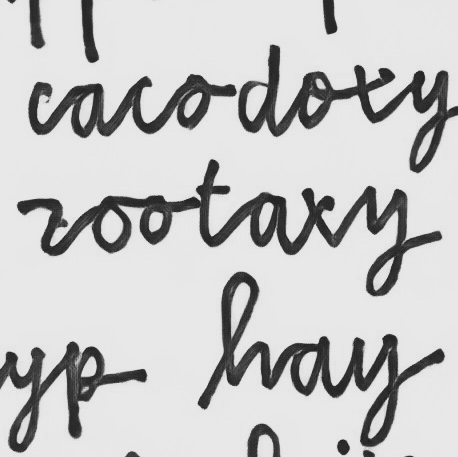a: (247, 189, 291, 251)
o: (90, 194, 135, 255), (137, 193, 175, 247)
t: (190, 157, 234, 249)
x: (294, 186, 339, 250)
y: (358, 182, 412, 300)
z: (13, 193, 72, 258)
